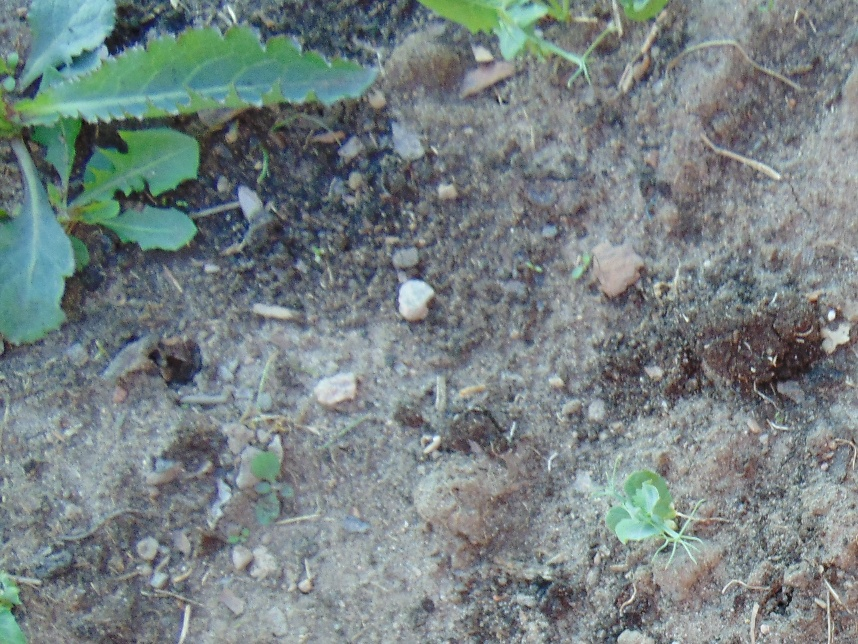crop: (602, 467, 707, 570), (491, 1, 606, 81)
weed: (1, 1, 204, 338), (1, 1, 380, 169), (248, 449, 295, 525), (1, 577, 26, 644)
